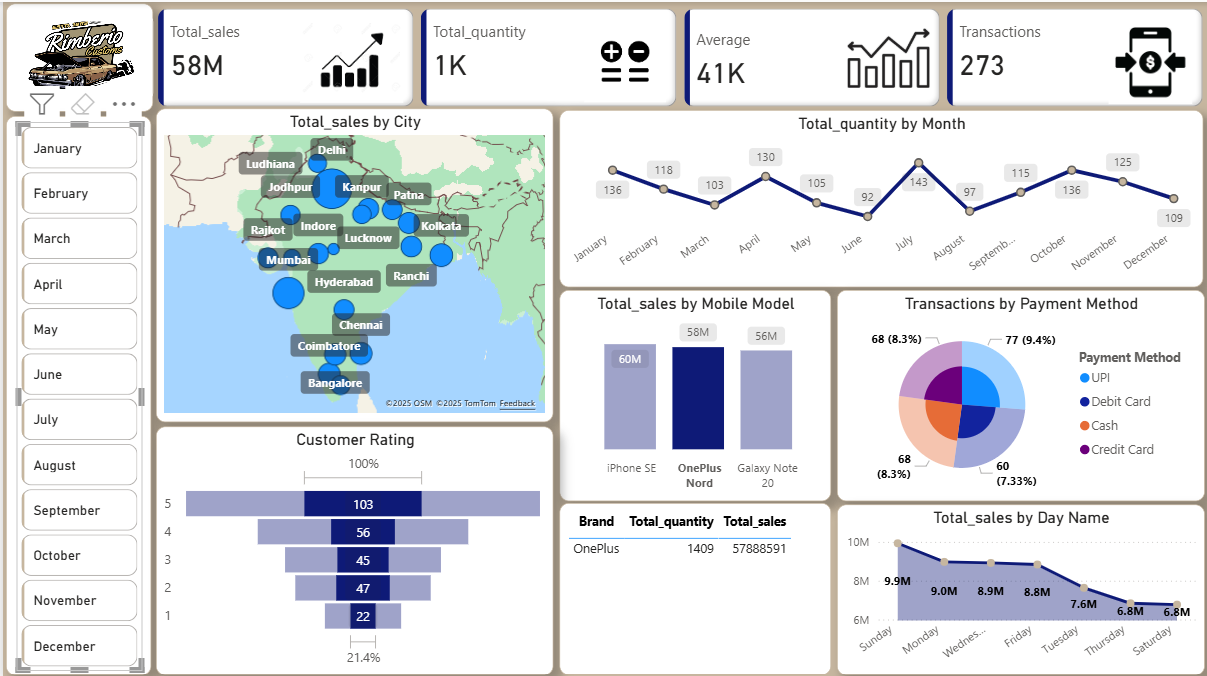

What the dashboard file says about the page in this screenshot:
{"tool":"powerbi","page":{"name":"Page 1","canvas":[1280,720],"ordinal":0},"visuals":[{"type":"shape","box":[3.2,1.6,155.9,114.5],"z":0},{"type":"image","box":[8,12.7,151.1,92.3],"z":1000},{"type":"shape","box":[3.2,120.9,154.3,593.3],"z":2000},{"type":"advancedSlicerVisual","fields":{"Values":["Sales data.Date.Variation.Date Hierarchy.Month"]},"box":[14.3,127.2,133.6,582.2],"z":3000},{"type":"cardVisual","fields":{"Data":["Sales data.total_sales","Sales data.Total_quantity","Sales data.Average","Sales data.Transactions"]},"box":[158.6,1.6,1121.4,114.5],"z":4000},{"type":"azureMap","fields":{"Category":["Sales data.City"],"Size":["Sales data.Total_sales"]},"box":[162.2,112.9,421.5,332.4],"z":5000},{"type":"lineChart","fields":{"Y":["Sales data.Total_quantity"],"Category":["Sales data.Date.Variation.Date Hierarchy.Month","Sales data.Date.Variation.Date Hierarchy.Day"]},"box":[590.1,114.5,682.4,187.7],"z":6000},{"type":"clusteredColumnChart","fields":{"Category":["Sales data.Mobile Model"],"Y":["Sales data.Total_sales"]},"box":[590.1,305.4,287.9,224.3],"z":7000},{"type":"pieChart","fields":{"Category":["Sales data.Payment Method"],"Y":["Sales data.Transactions"]},"box":[884.4,305.4,389.7,224.3],"z":8000},{"type":"funnel","title":" Customer Rating","fields":{"Category":["Sales data.Customer Ratings"],"Y":["CountNonNull(Sales data.Customer Ratings)"]},"box":[162.2,450.1,421.5,264],"z":9000},{"type":"stackedAreaChart","fields":{"Category":["Sales data.Day Name"],"Y":["Sales data.Total_sales"]},"box":[884.4,532.9,389.7,181.3],"z":10000},{"type":"tableEx","fields":{"Values":["Sales data.Brand","Sales data.Total_quantity","Sales data.Total_sales"]},"box":[590.1,531.3,287.9,182.9],"z":11000}]}

Visuals, with their boxes in screenshot pixels (x1, y1, x2, y2), scaled from the page's 1280x720 canvas onto the 1207x676 screenshot:
shape: (left=3, top=2, right=150, bottom=109)
image: (left=8, top=12, right=150, bottom=99)
shape: (left=3, top=114, right=149, bottom=671)
advancedSlicerVisual - Sales data.Date.Variation.Date Hierarchy.Month: (left=13, top=119, right=139, bottom=666)
cardVisual - Sales data.total_sales x Sales data.Total_quantity: (left=150, top=2, right=1206, bottom=109)
azureMap - Sales data.City x Sales data.Total_sales: (left=153, top=106, right=550, bottom=418)
lineChart - Sales data.Total_quantity x Sales data.Date.Variation.Date Hierarchy.Month: (left=556, top=108, right=1200, bottom=284)
clusteredColumnChart - Sales data.Mobile Model x Sales data.Total_sales: (left=556, top=287, right=828, bottom=497)
pieChart - Sales data.Payment Method x Sales data.Transactions: (left=834, top=287, right=1201, bottom=497)
" Customer Rating" funnel: (left=153, top=423, right=550, bottom=670)
stackedAreaChart - Sales data.Day Name x Sales data.Total_sales: (left=834, top=500, right=1201, bottom=671)
tableEx - Sales data.Brand x Sales data.Total_quantity: (left=556, top=499, right=828, bottom=671)
